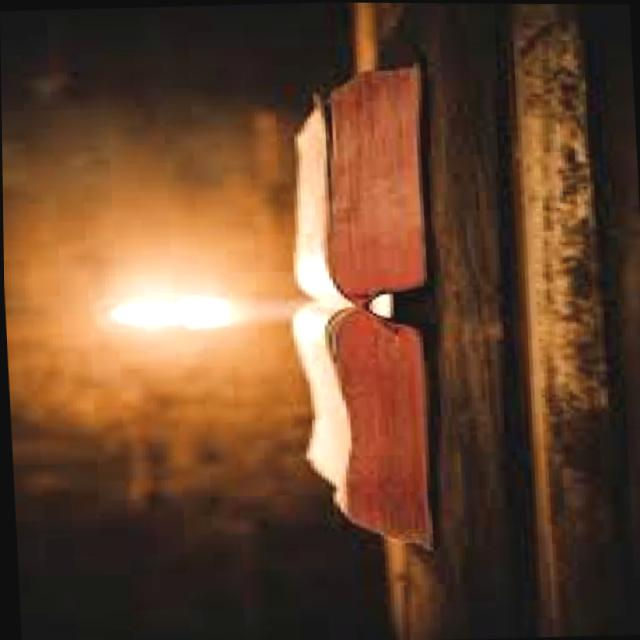Fire: (96, 291, 196, 338)
